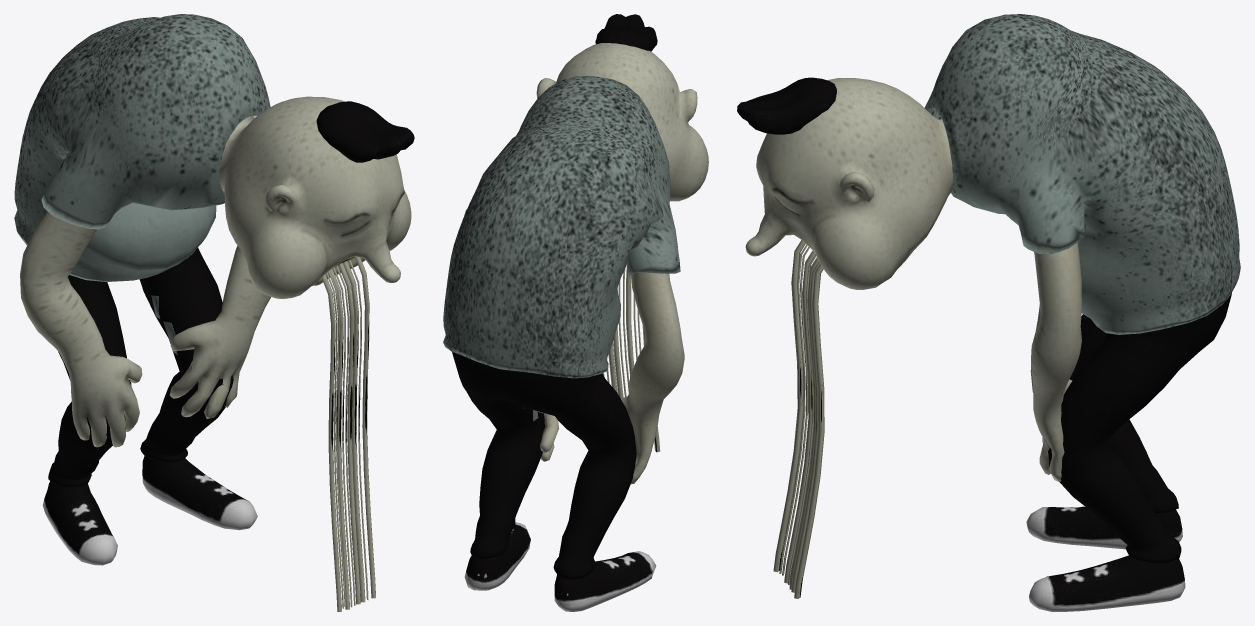
Rendered from human.glb.
3 renders of one model, left to right at view 1: azimuth 30°, elevation 25°; view 2: azimuth 150°, elevation 25°; view 3: azimuth 270°, elevation 25°, orthographic. The views are drawn at different scales.
Visible parts, largest first — view 1: Cloths, Skin; view 2: Cloths, Skin; view 3: Cloths, Skin.
Part boxes in pixels (x1,y1,x2,y2): Cloths: [14, 14, 270, 565]; Skin: [20, 96, 414, 611]; Cloths: [443, 76, 680, 611]; Skin: [477, 14, 708, 595]; Cloths: [924, 14, 1240, 611]; Skin: [737, 77, 1081, 598].
Bounding box in the file's own units: 6.03 × 11.06 × 9.19.
Materials: 2 (2 with a texture image).
